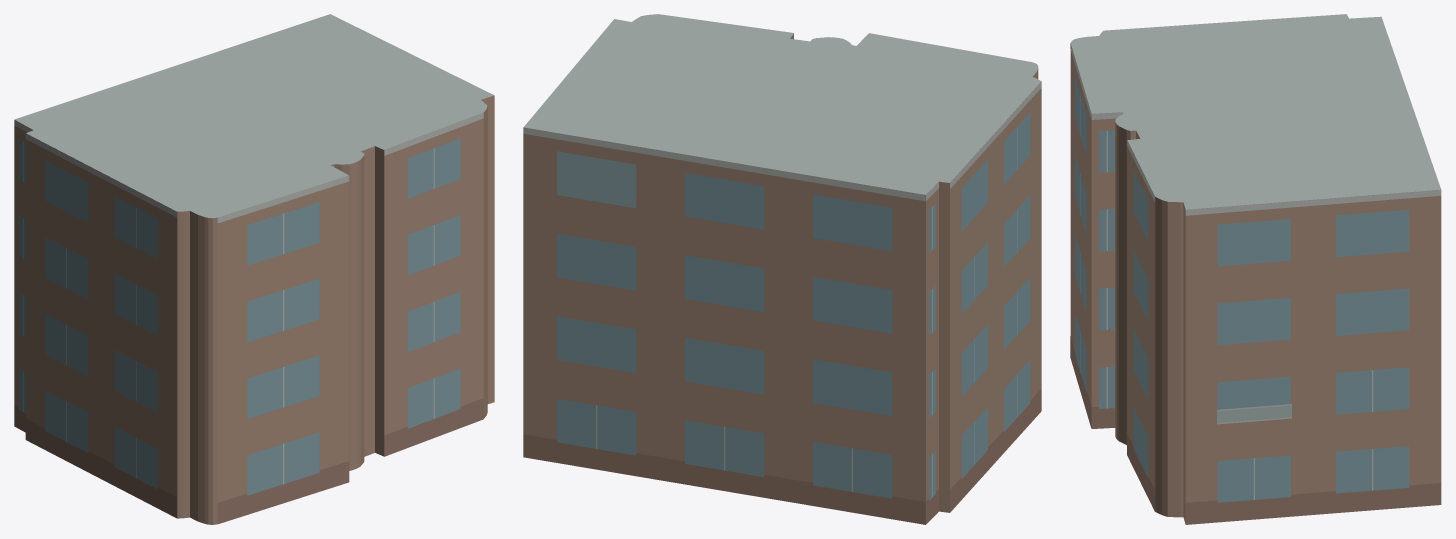
The model's file is survey-upis-32576357.glb.
The picture shows the model from 3 angles, left to right: view 1: azimuth 30°, elevation 25°; view 2: azimuth 150°, elevation 25°; view 3: azimuth 270°, elevation 25°; orthographic projection. The views are drawn at different scales.
Parts seen in each view (by area): view 1: survey-upis-32576357.tmp; view 2: survey-upis-32576357.tmp; view 3: survey-upis-32576357.tmp.
Part boxes in pixels (bbox=[...]): survey-upis-32576357.tmp: bbox=[14, 14, 494, 524]; survey-upis-32576357.tmp: bbox=[523, 14, 1041, 524]; survey-upis-32576357.tmp: bbox=[1070, 14, 1441, 524].
Size of the model in its own units: 16.93 by 12.7 by 13.55.
